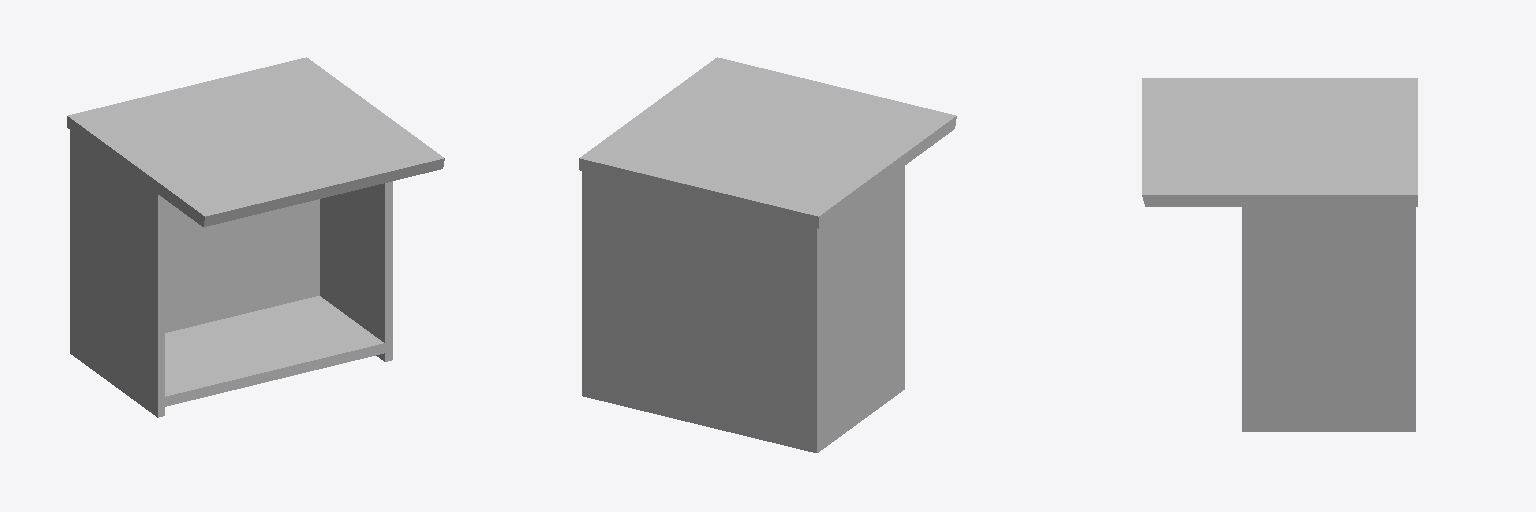
The model's file is Office_CounterA2.obj.
The picture shows the model from 3 angles: view 1: azimuth 30°, elevation 25°; view 2: azimuth 150°, elevation 25°; view 3: azimuth 270°, elevation 25°; orthographic projection.
Parts seen in each view (by area): view 1: Office_CounterA2; view 2: Office_CounterA2; view 3: Office_CounterA2.
Part boxes in pixels (bbox=[...]): Office_CounterA2: bbox=[67, 57, 444, 417]; Office_CounterA2: bbox=[579, 57, 956, 452]; Office_CounterA2: bbox=[1142, 78, 1417, 431].
Bounding box in the file's own units: 1 × 0.949 × 0.9979.